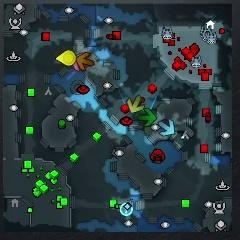Other: (120, 202, 133, 216)
p4: (56, 50, 77, 67)
x1: (72, 52, 82, 72)
x2: (127, 95, 144, 114)
x3: (158, 119, 175, 136)
x4: (139, 108, 156, 127)
x5: (76, 52, 96, 71)
